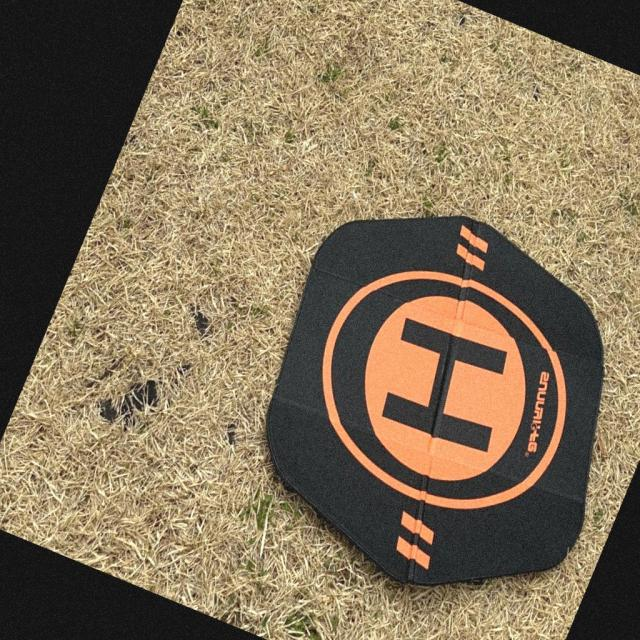helipad: (316, 266, 572, 512)
